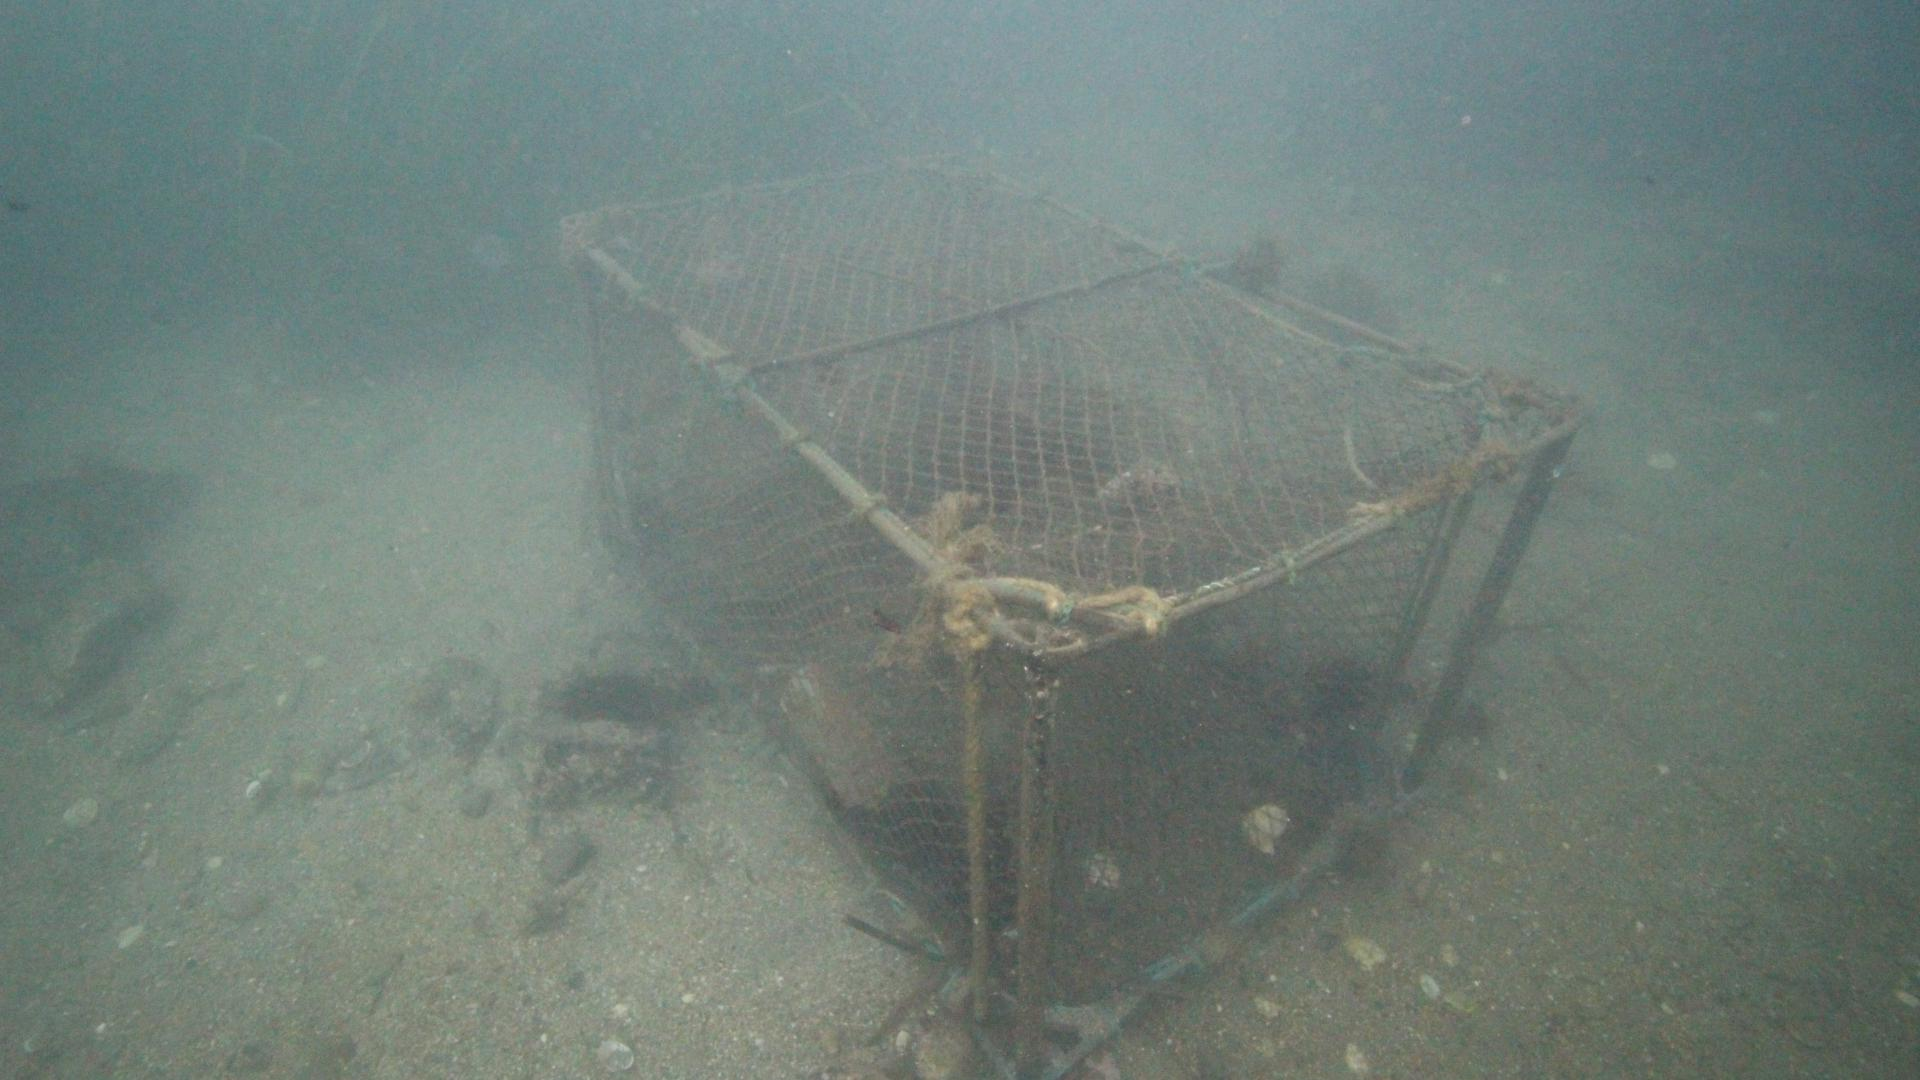rectangular fish trap: (560, 149, 1585, 1080)
